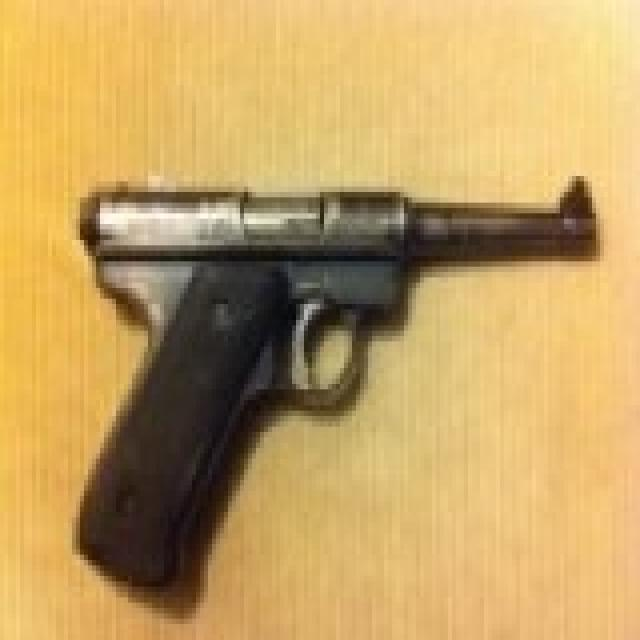weapon: (64, 175, 616, 598)
